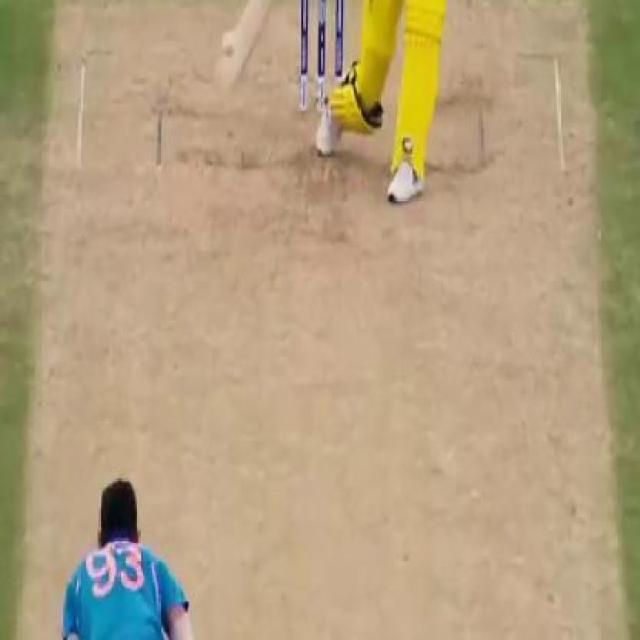Cricket ball: (220, 31, 237, 56)
